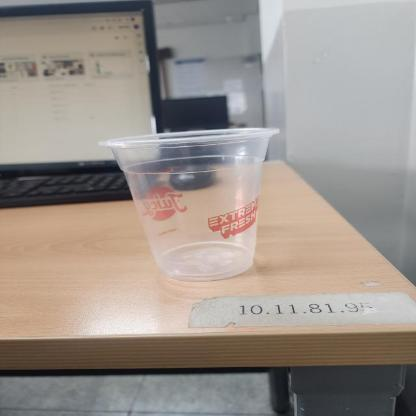Plastic Cup: (98, 126, 284, 280)
